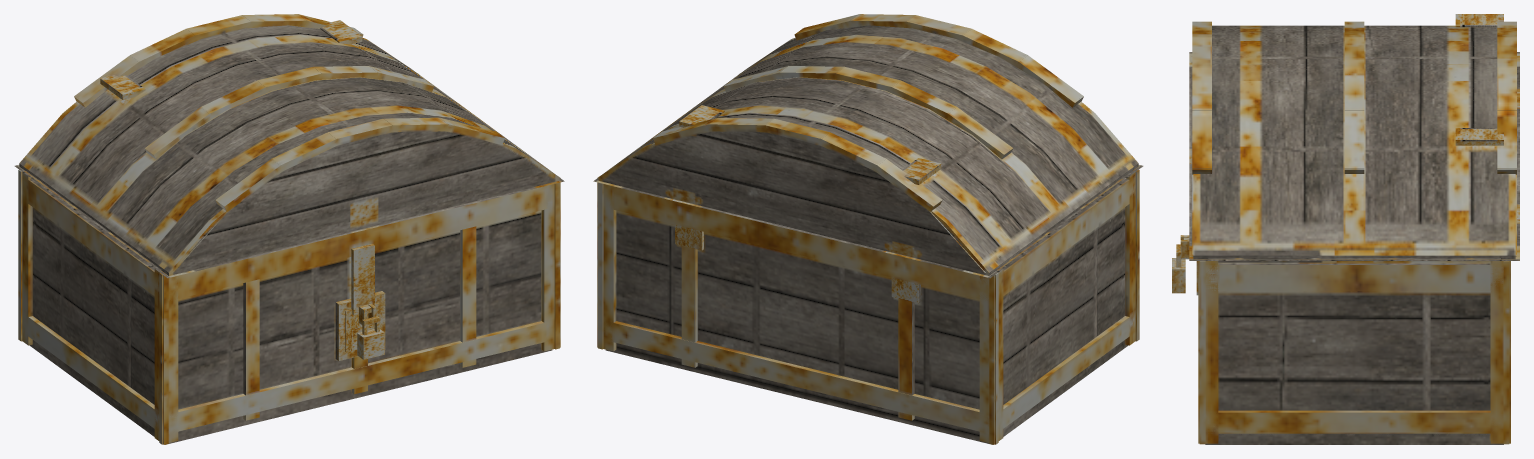
The picture shows the model from 3 angles, left to right: view 1: azimuth 30°, elevation 25°; view 2: azimuth 150°, elevation 25°; view 3: azimuth 270°, elevation 25°; orthographic projection. The views are drawn at different scales.
Visible parts, largest first — view 1: SM_MedievalChest.001; view 2: SM_MedievalChest.001; view 3: SM_MedievalChest.001.
Boxes of the visible parts, x1=… form: SM_MedievalChest.001: x1=14, y1=14, x2=564, y2=444; SM_MedievalChest.001: x1=593, y1=14, x2=1143, y2=444; SM_MedievalChest.001: x1=1172, y1=14, x2=1519, y2=444.
Bounding box in the file's own units: 1.03 × 0.6668 × 0.7224.
2 materials, 2 textured.
